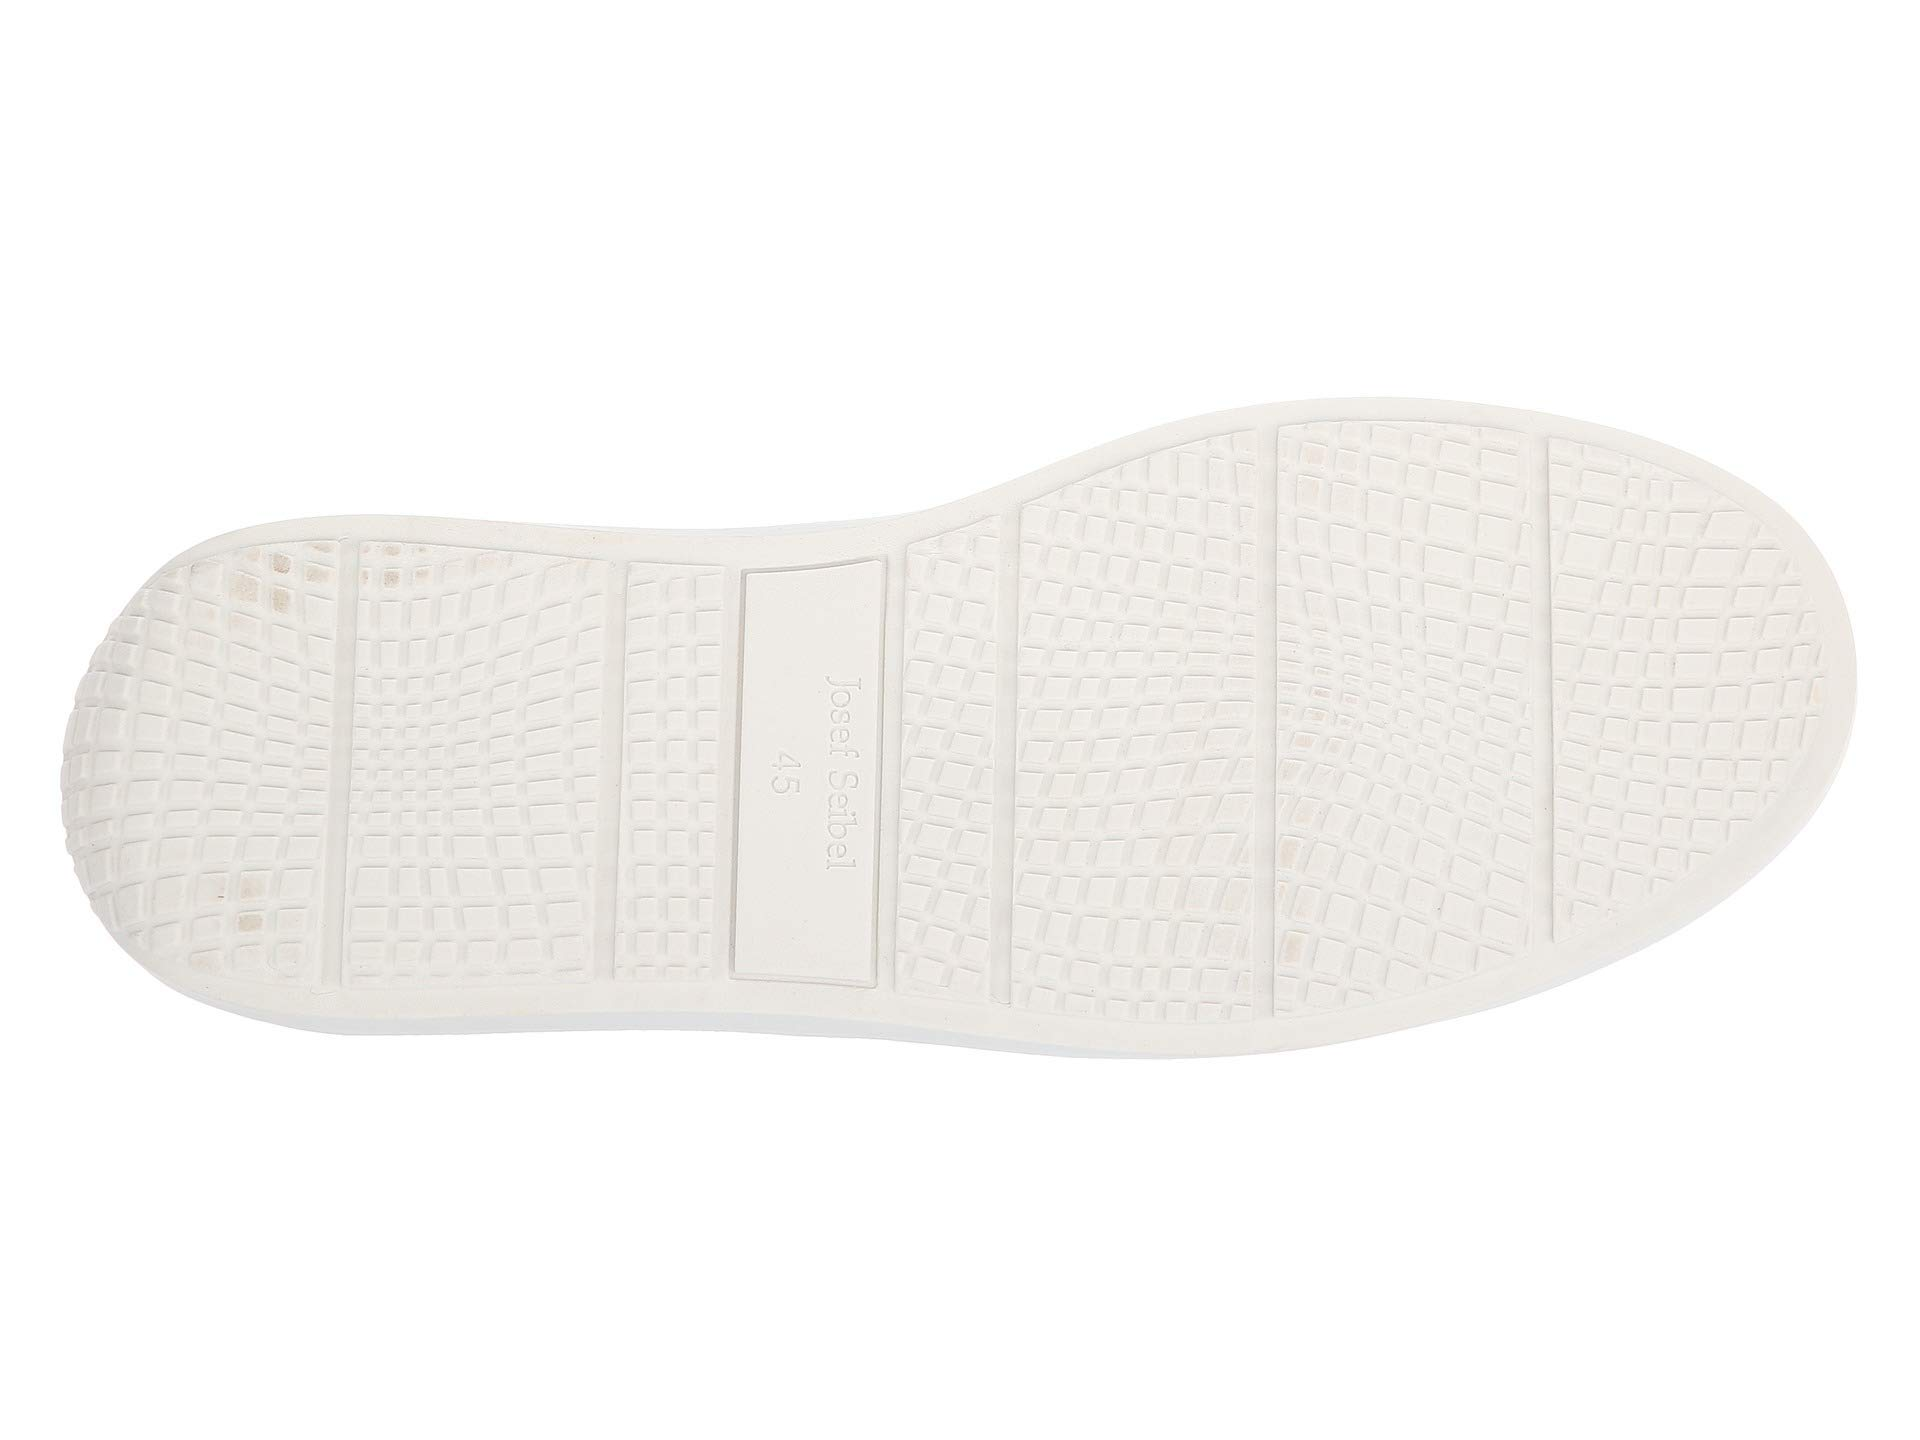quad: (1293, 567, 1538, 812), (1036, 575, 1256, 809), (364, 653, 561, 843)
text: (750, 734, 822, 821)
